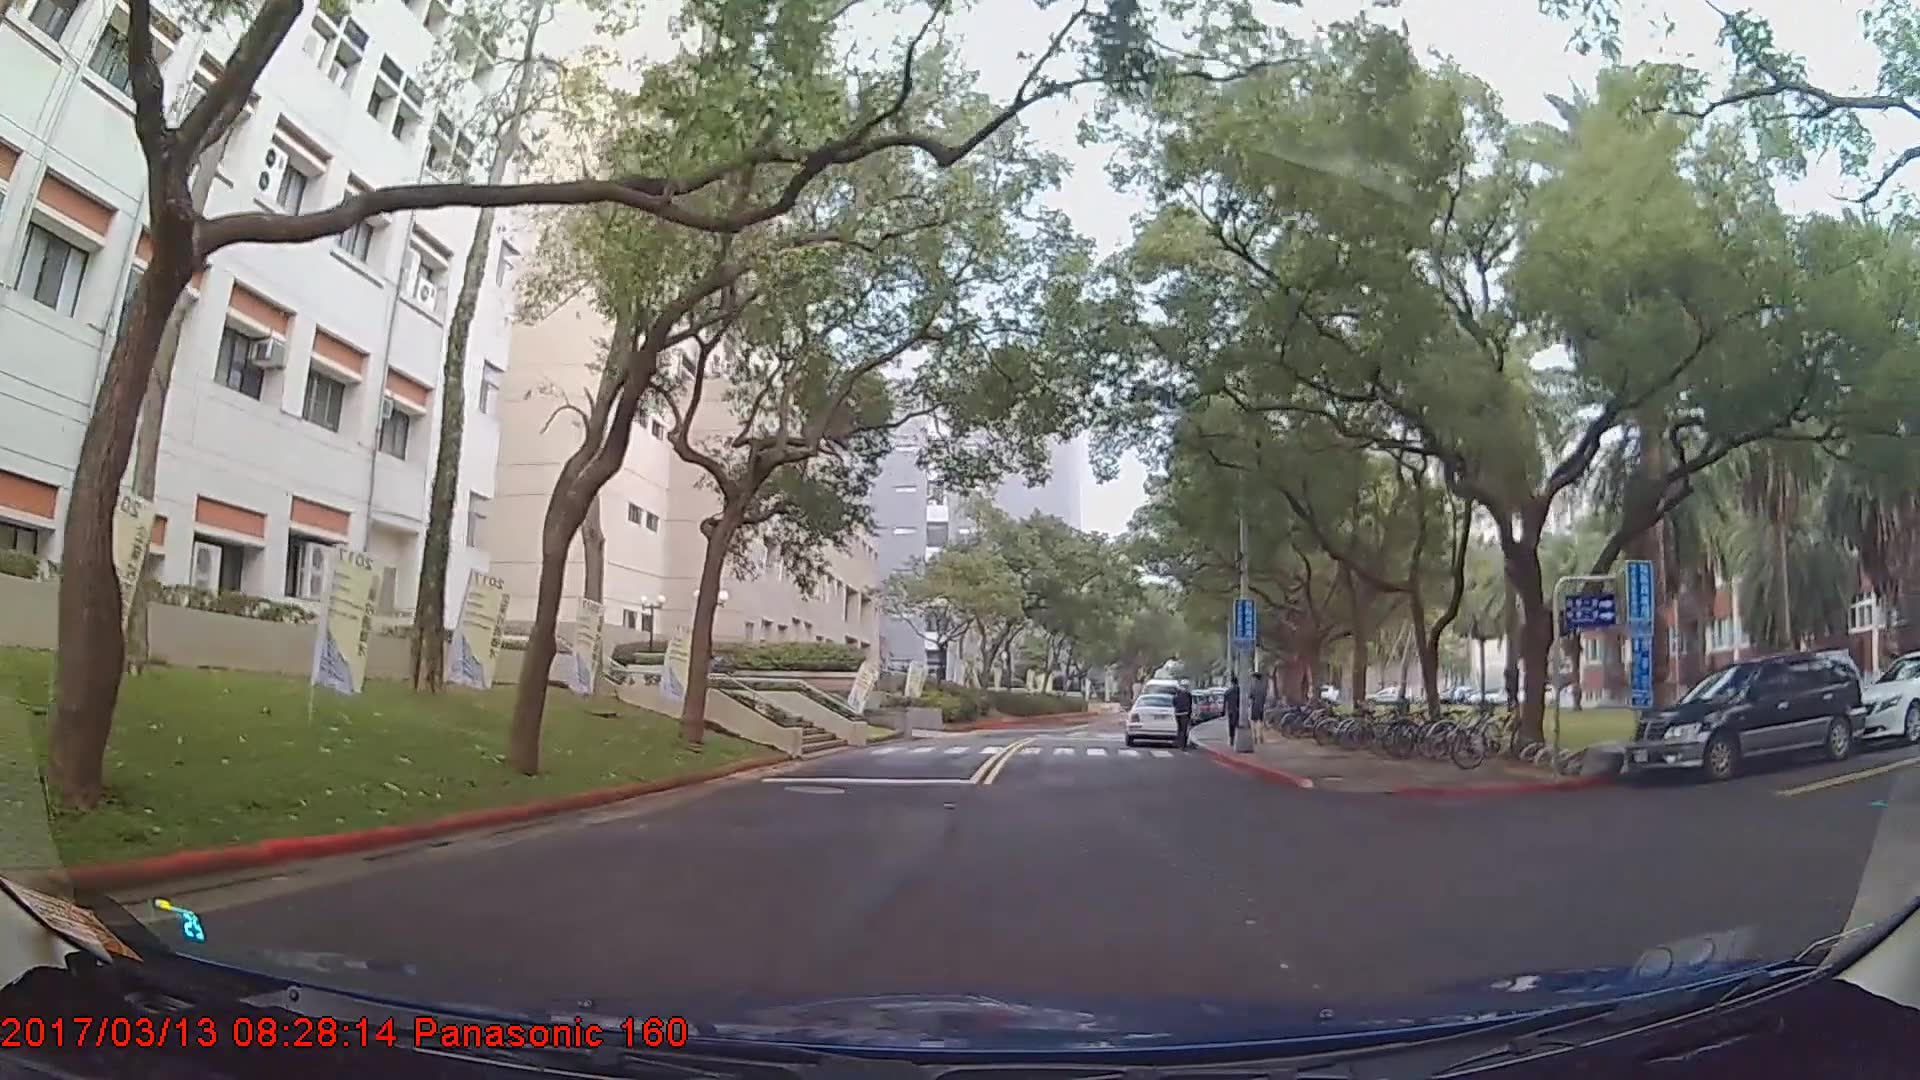pedestrian: (1224, 677, 1249, 748), (1170, 679, 1192, 753)
vehicle: (1626, 647, 1868, 785), (1853, 651, 1920, 747), (1121, 692, 1186, 744)
